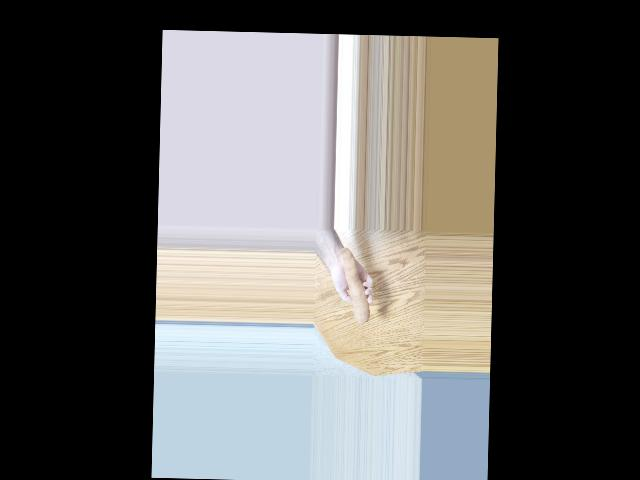sweet_potato: (342, 251, 373, 320)
